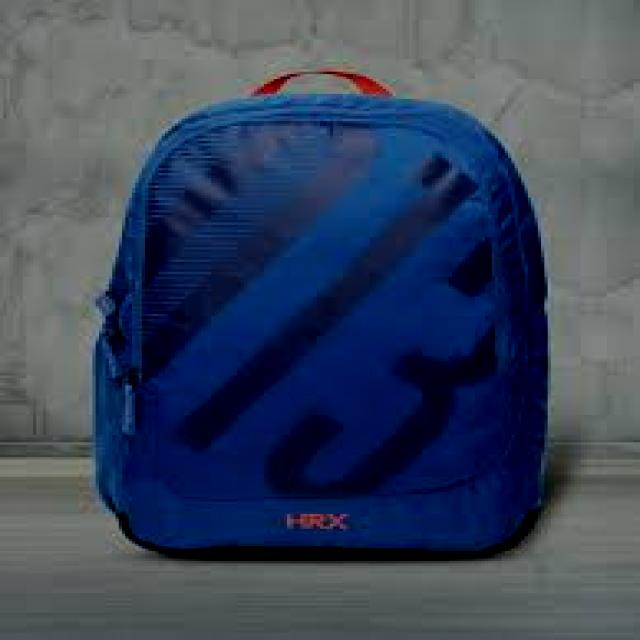backpack: (91, 70, 549, 560)
